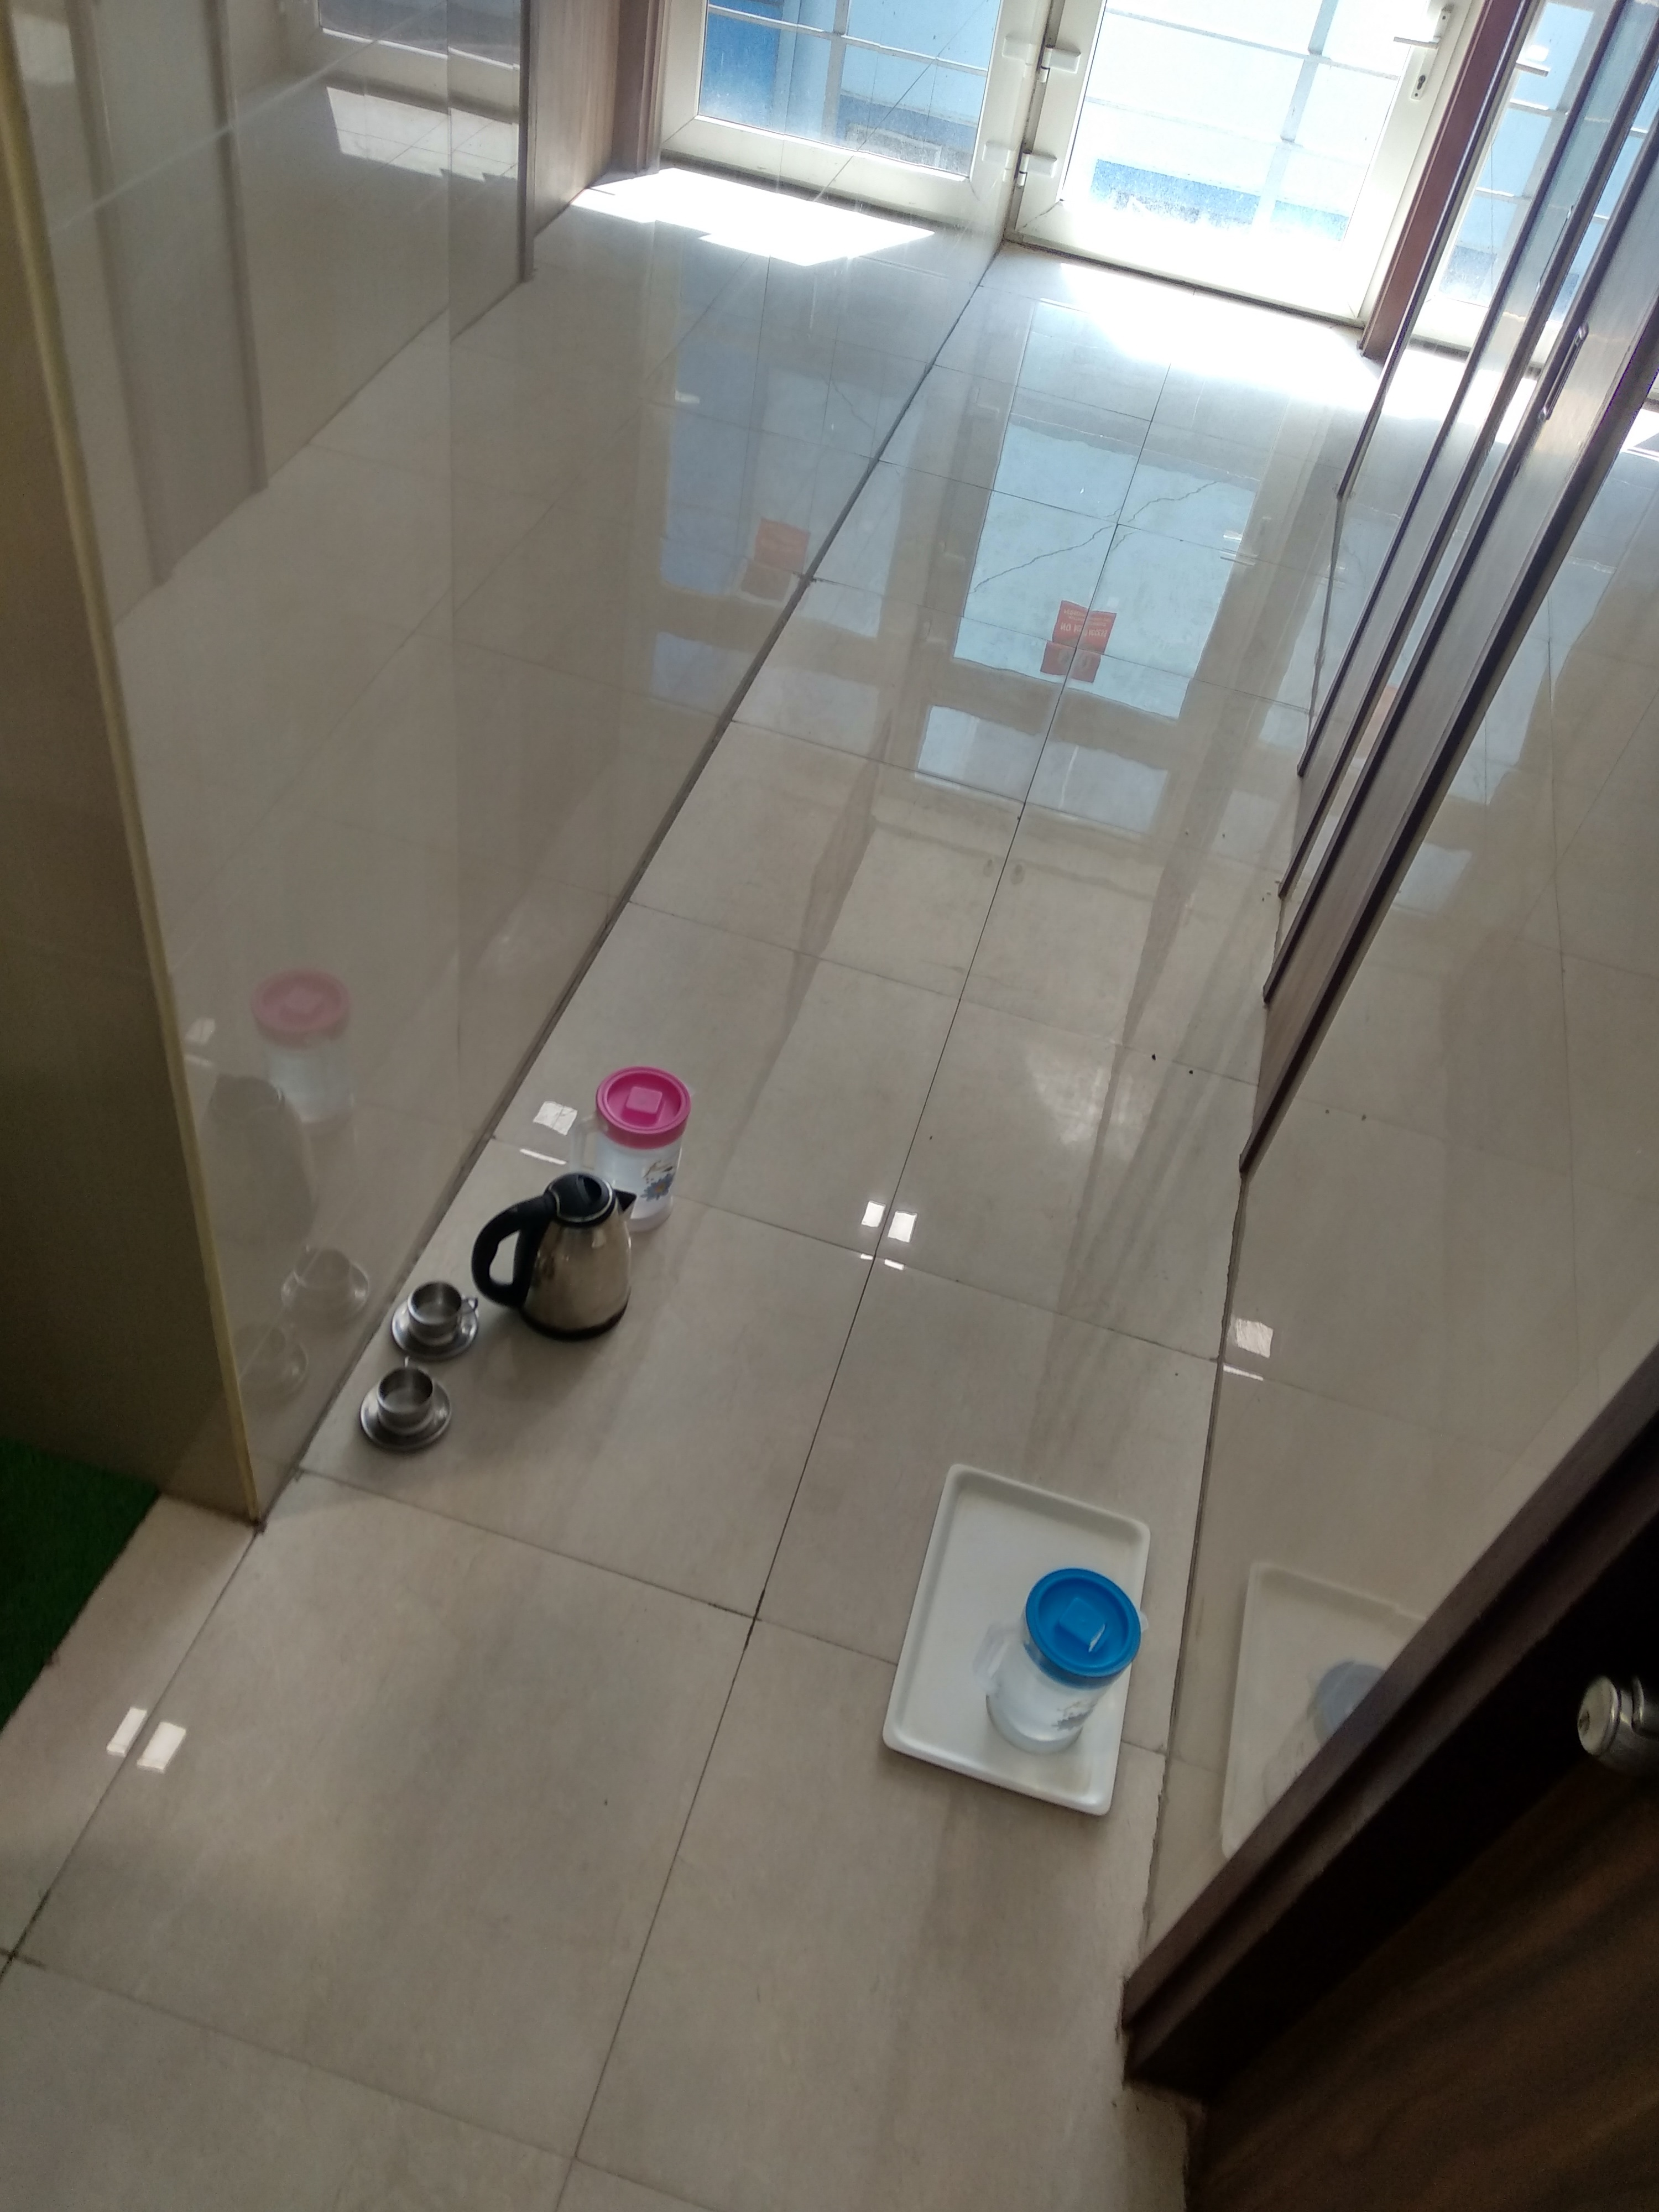CUP: (359, 1357, 460, 1454), (390, 1275, 479, 1366)
JUG: (978, 1550, 1157, 1775), (471, 1169, 650, 1345), (566, 1055, 709, 1240)
